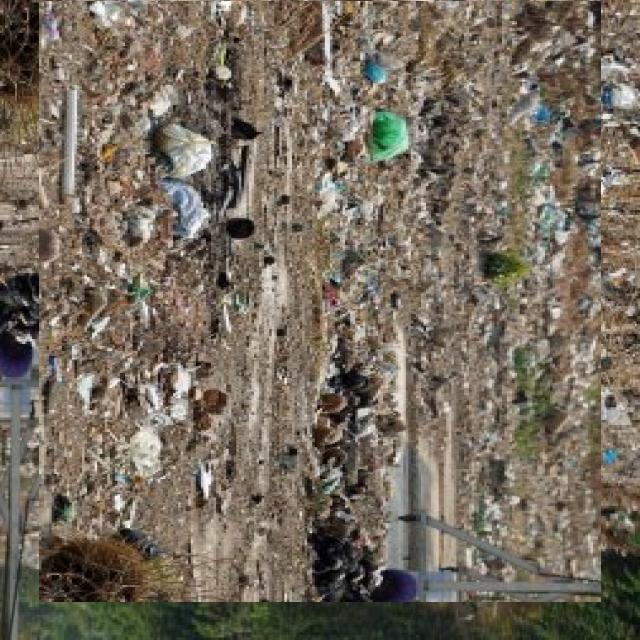garbage: (19, 0, 620, 583)
